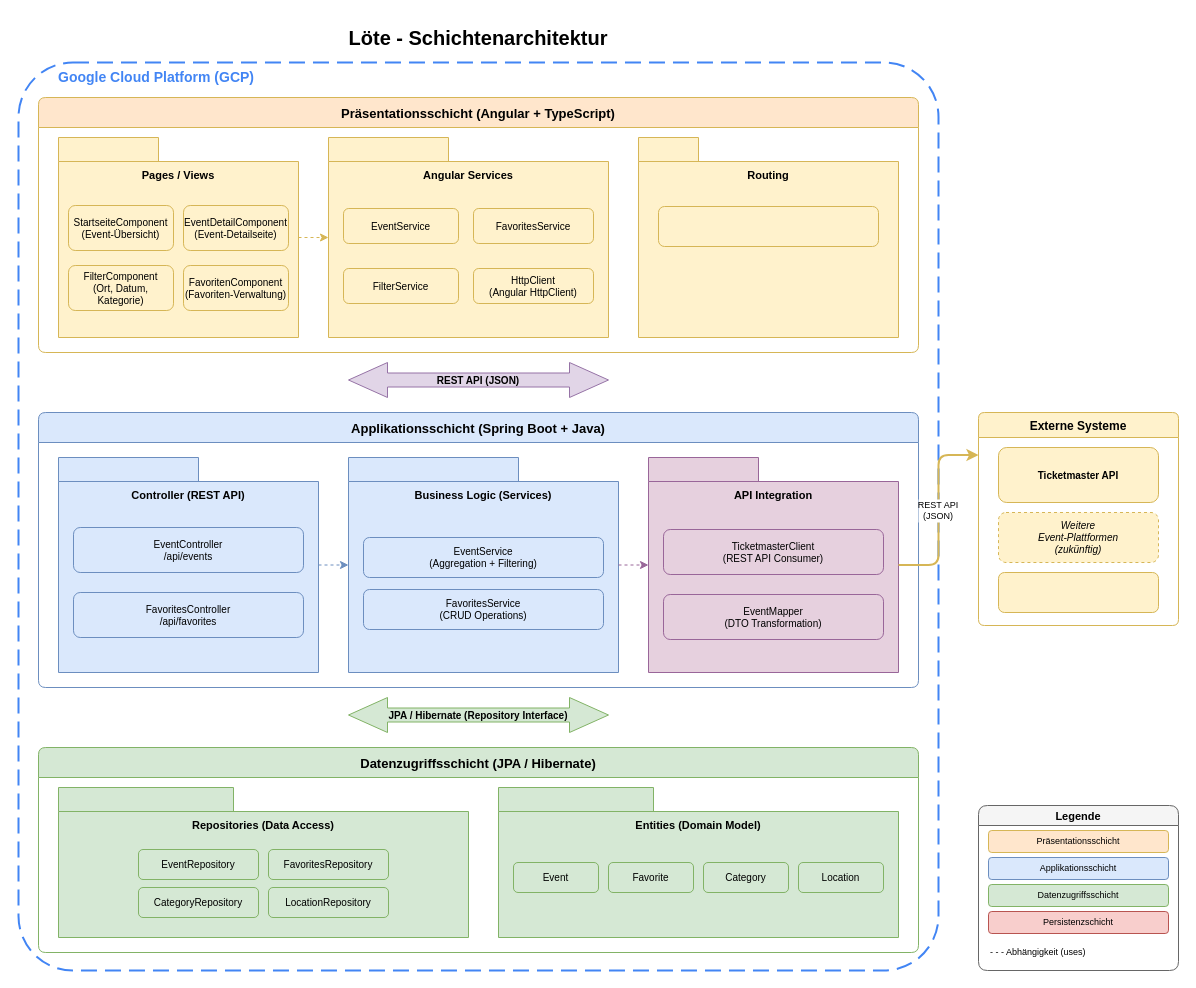
Some shapes in this 1196 by 988 pixel diagram are drawn without their labels. The shapes that lost their labels are listed below. From the top down, each one's centre as x and y in pixels, then its label:
At point (768, 226): "AppRoutingModule (Angular Router)".
At point (1078, 592): "Externe Ticket-Seiten (Redirect / Kauf)".
